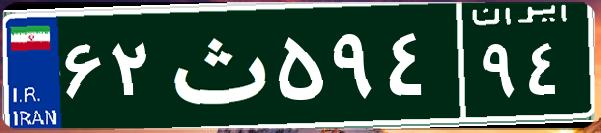2: (110, 28, 158, 105)
4: (385, 28, 445, 110), (525, 38, 570, 115)
5: (273, 28, 330, 110)
6: (57, 26, 110, 107)
9: (330, 28, 385, 110), (475, 38, 525, 113)
ث: (158, 15, 273, 115)
